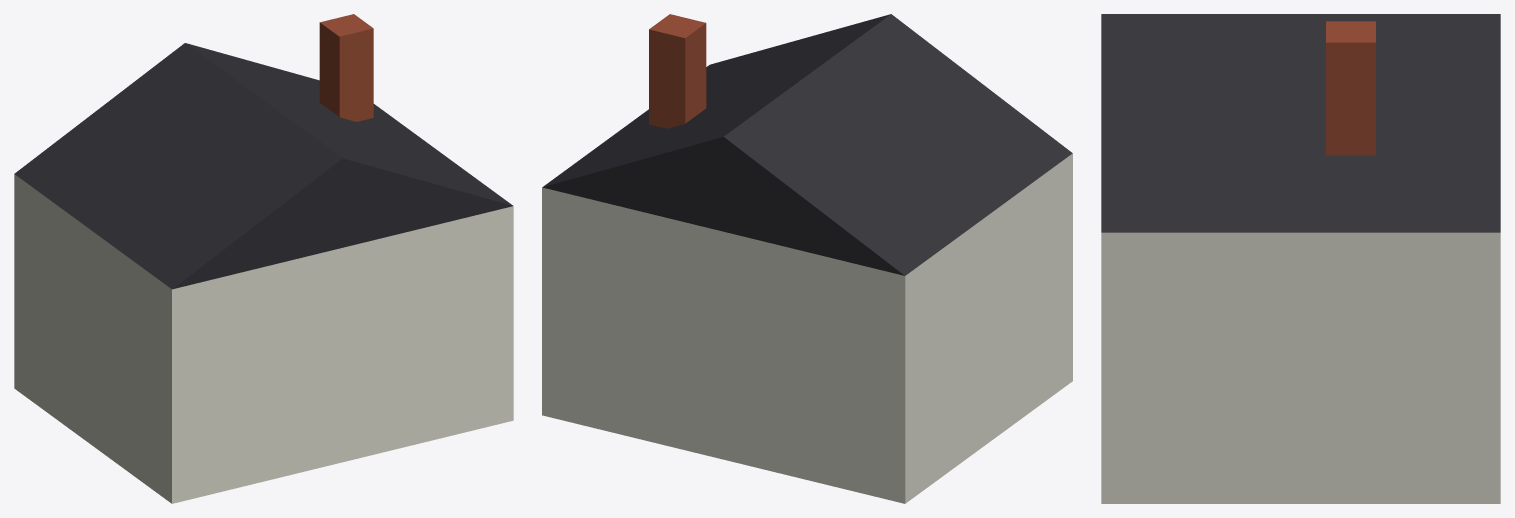
The model's file is residential_02.obj.
The picture shows the model from 3 angles, left to right: view 1: azimuth 30°, elevation 25°; view 2: azimuth 150°, elevation 25°; view 3: azimuth 270°, elevation 25°; orthographic projection. The views are drawn at different scales.
Parts seen in each view (by area): view 1: Residential02; view 2: Residential02; view 3: Residential02.
Boxes of the visible parts, box(x1,y1,x2,y2) form: Residential02: box(14, 14, 513, 503); Residential02: box(542, 14, 1072, 503); Residential02: box(1101, 14, 1500, 503).
Bounding box in the file's own units: 10 × 9.5 × 8.
